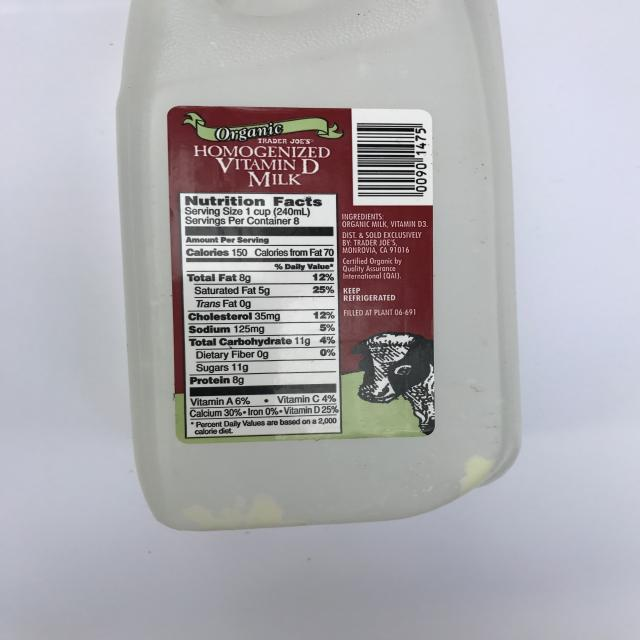plastic: (115, 0, 522, 531)
